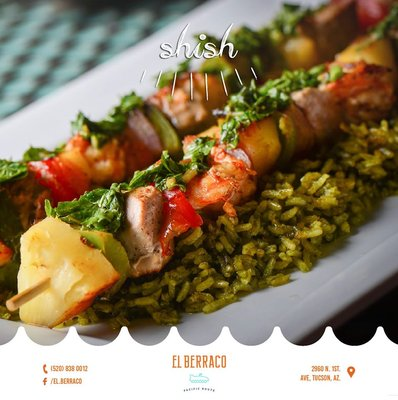curry: (219, 68, 324, 151), (122, 137, 215, 192)
